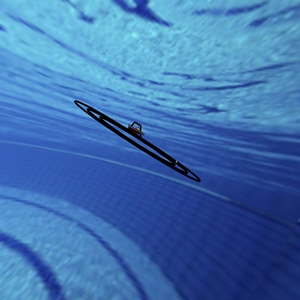circle: (70, 92, 208, 191)
submarine: (126, 114, 146, 141)
